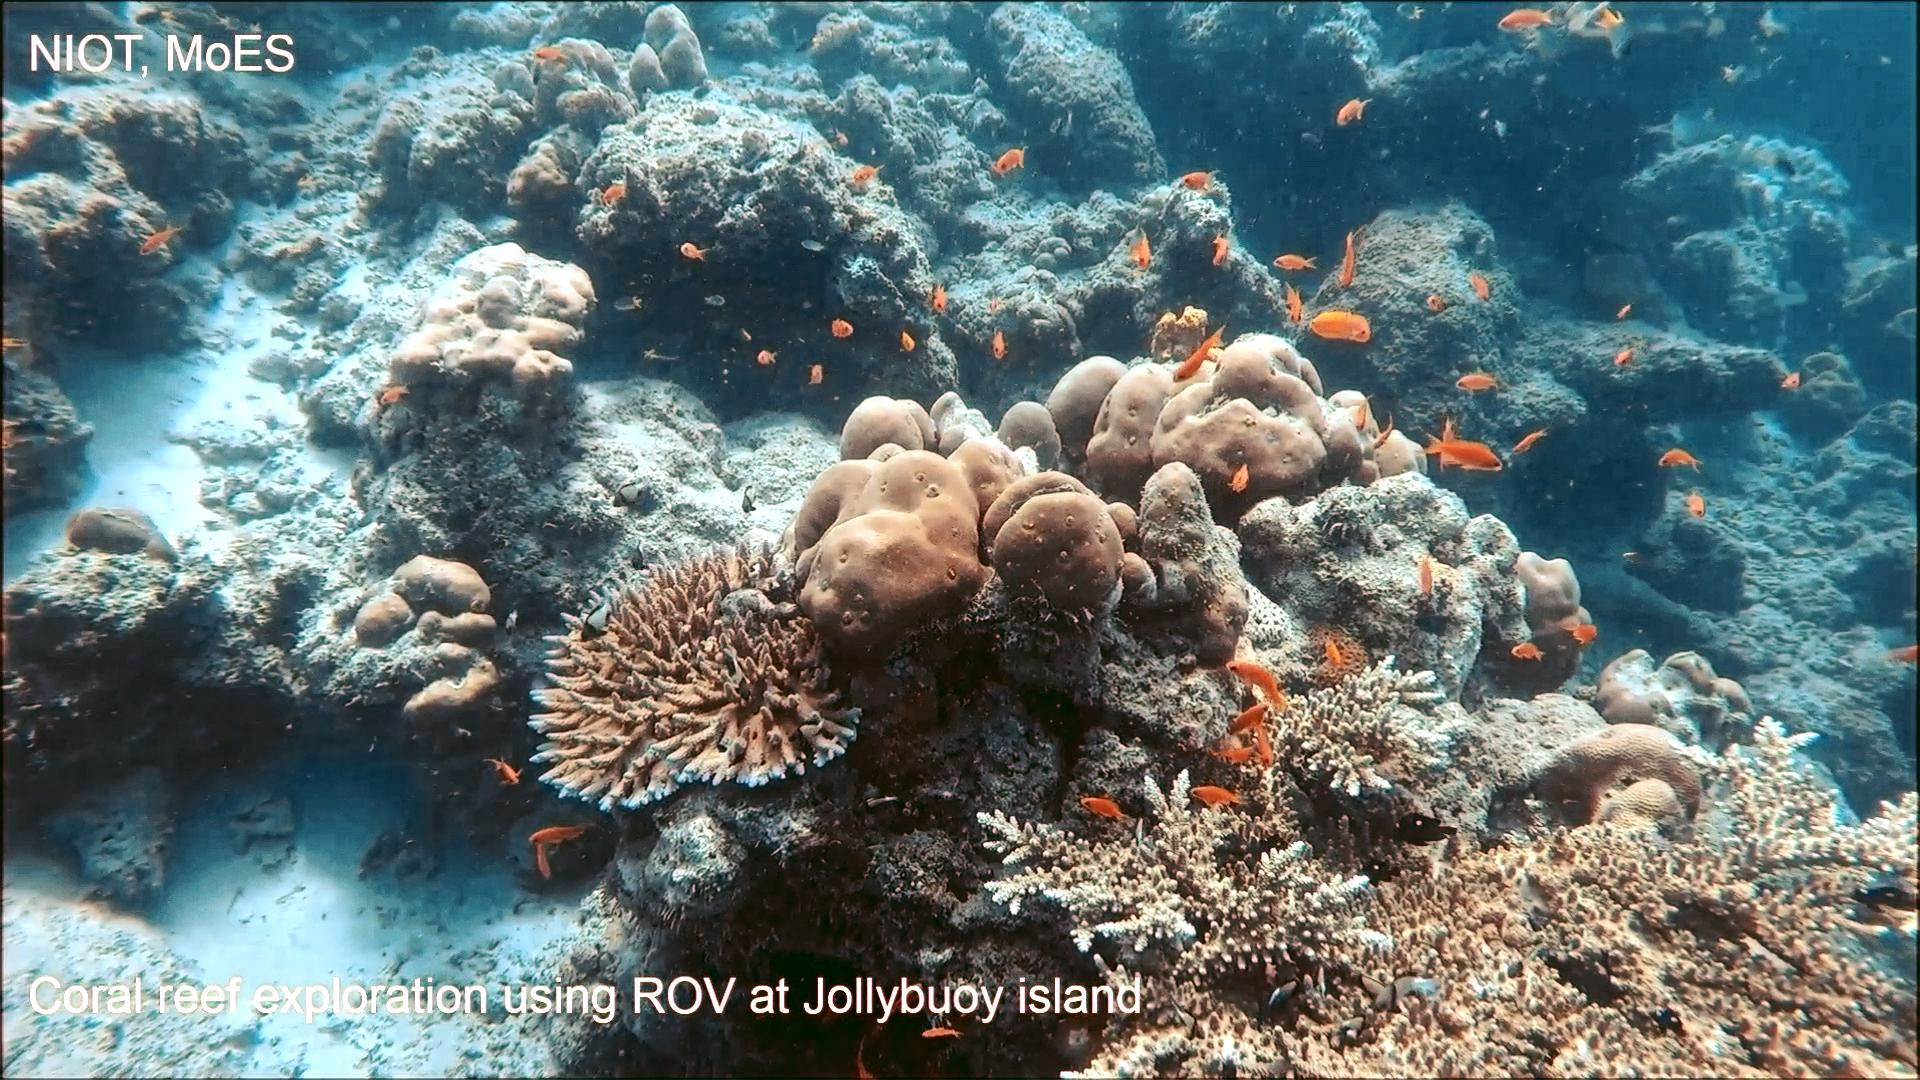Porites-Porites pukoensis: (775, 382, 1130, 670), (1025, 322, 1435, 522)
